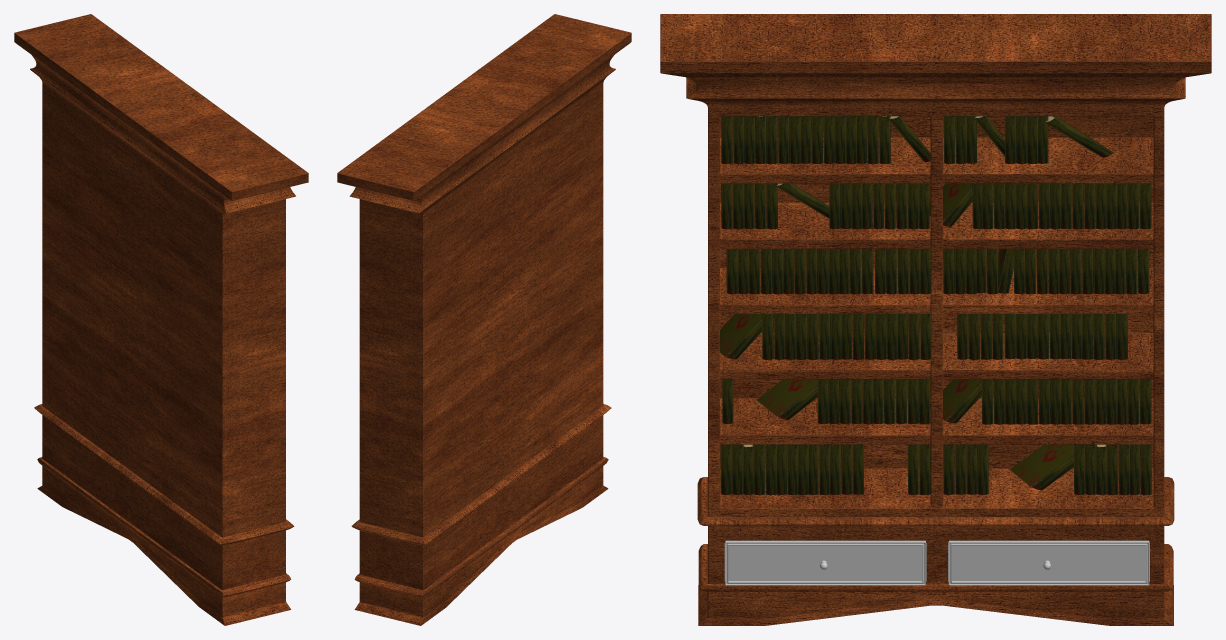
The model's file is BookRack.fbx.
3 renders of one model, left to right at view 1: azimuth 30°, elevation 25°; view 2: azimuth 150°, elevation 25°; view 3: azimuth 270°, elevation 25°, orthographic. The views are drawn at different scales.
Visible parts, largest first — view 1: Cube.035; view 2: Cube.035; view 3: Cube.035, Cube.008, Cube.010, Cube.005, Cube.027, Cube.090, Cube.076, Cube.058, Cube.189.
Part boxes in pixels (x1,y1,x2,y2): Cube.035: (14, 14, 308, 625); Cube.035: (337, 14, 631, 625); Cube.035: (660, 14, 1211, 625); Cube.008: (724, 540, 926, 585); Cube.010: (948, 540, 1149, 585); Cube.005: (1010, 444, 1073, 490); Cube.027: (757, 379, 817, 419); Cube.090: (720, 314, 774, 359); Cube.076: (930, 379, 993, 423); Cube.058: (929, 183, 973, 226); Cube.189: (1044, 116, 1113, 157).
Bounding box in the file's own units: 96.7 × 503 × 444.
